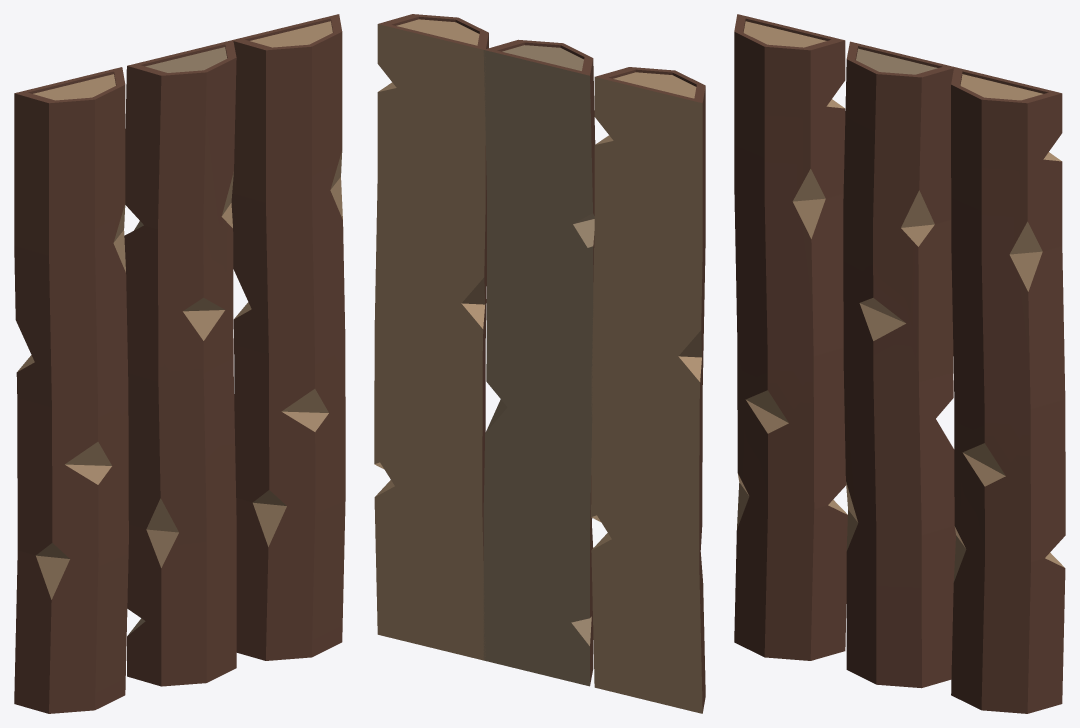
File: Wood Door.fbx
The picture shows the model from 3 angles, left to right: view 1: azimuth 30°, elevation 25°; view 2: azimuth 150°, elevation 25°; view 3: azimuth 330°, elevation 25°; orthographic projection.
Parts seen in each view (by area): view 1: Log Door Part 01, Log Door Part 03, Log Door Part 02; view 2: Log Door Part 01, Log Door Part 03, Log Door Part 02; view 3: Log Door Part 03, Log Door Part 01, Log Door Part 02.
Part boxes in pixels (left/top/right/bottom): Log Door Part 01: left=14, top=67, right=128, bottom=713; Log Door Part 03: left=231, top=14, right=345, bottom=660; Log Door Part 02: left=124, top=40, right=236, bottom=686; Log Door Part 01: left=591, top=67, right=705, bottom=713; Log Door Part 03: left=374, top=14, right=488, bottom=660; Log Door Part 02: left=483, top=39, right=595, bottom=686; Log Door Part 03: left=951, top=67, right=1065, bottom=713; Log Door Part 01: left=734, top=14, right=847, bottom=660; Log Door Part 02: left=843, top=41, right=955, bottom=688.
Size of the model in its own units: 0.851 by 1.51 by 0.12.
